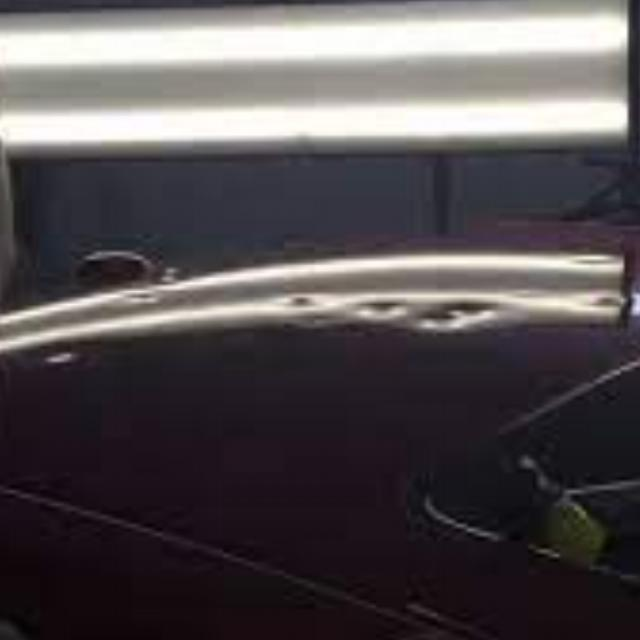dents: (77, 242, 175, 328), (425, 289, 494, 361), (347, 287, 416, 340), (279, 282, 323, 347)
